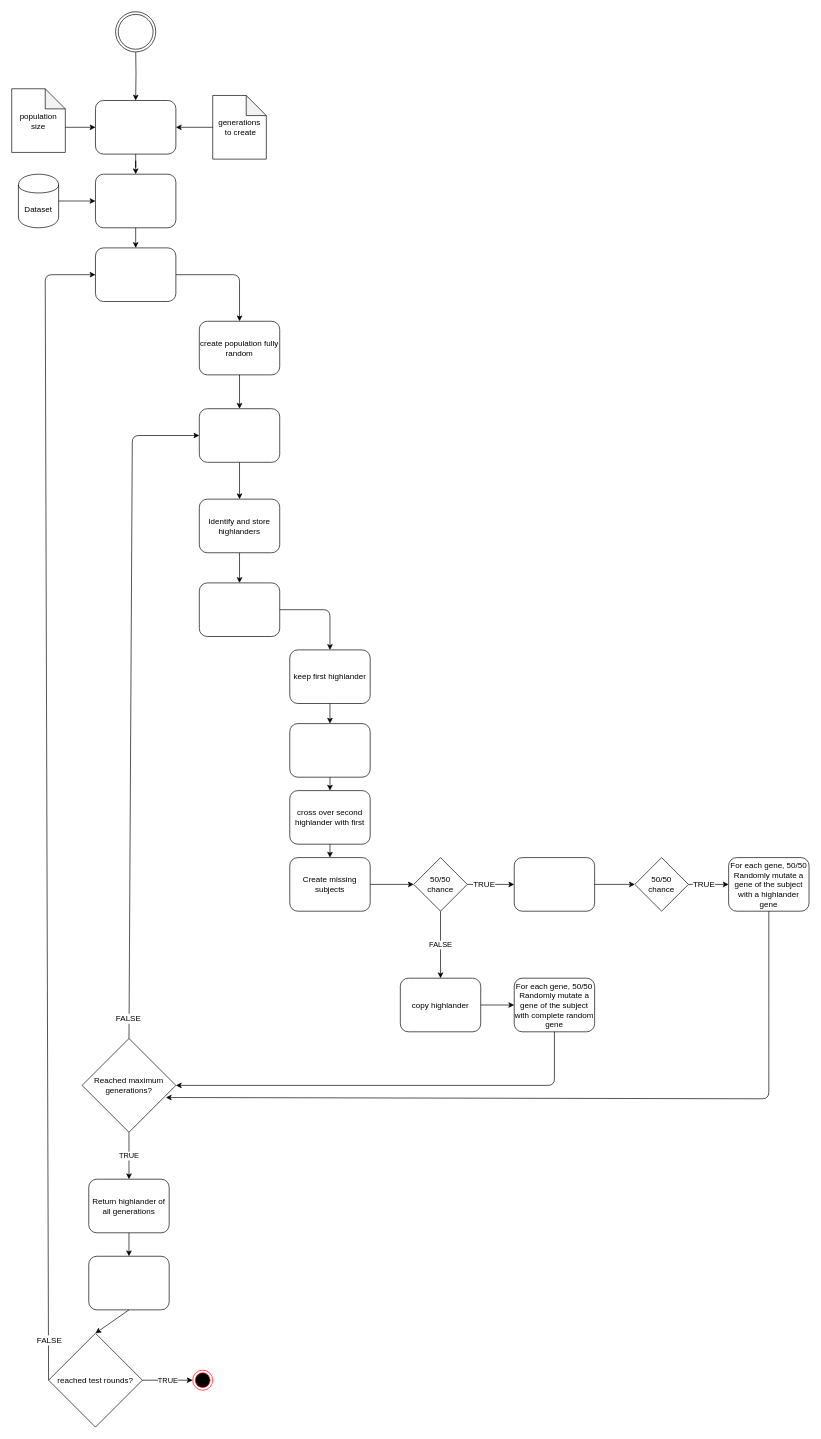
Some shapes in this 821 by 1439 pixel diagram are drawn without their labels. Here are the shapes that lost their labels. From the top down, the box of each, then its label:
(95, 100, 176, 154): params setup
(95, 174, 176, 228): read dataset
(95, 247, 176, 302): Test round
(199, 408, 280, 462): calculate fitness for each subject of the population
(199, 582, 280, 636): Create new population
(289, 723, 370, 777): cross over first highlander with second
(514, 857, 595, 911): Create a random subject
(88, 1256, 169, 1310): Generate a file if highlander value is better then previously findings
